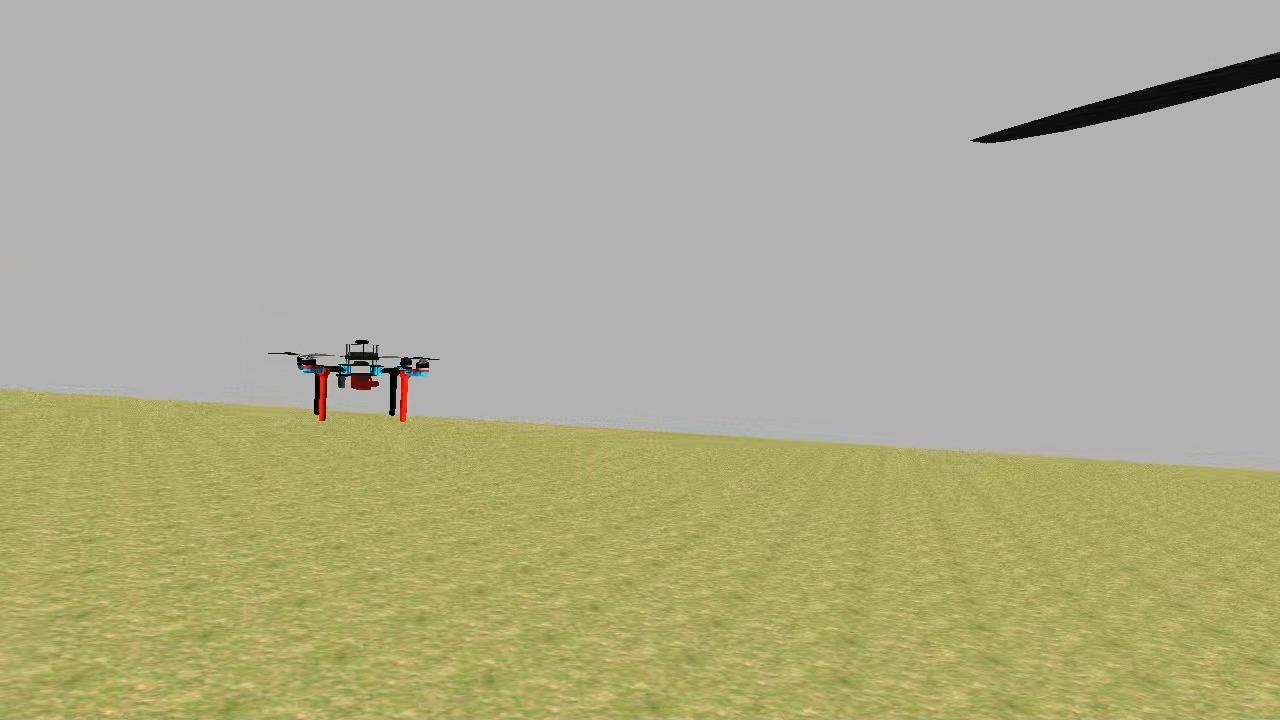UAV: (298, 334, 438, 428)
